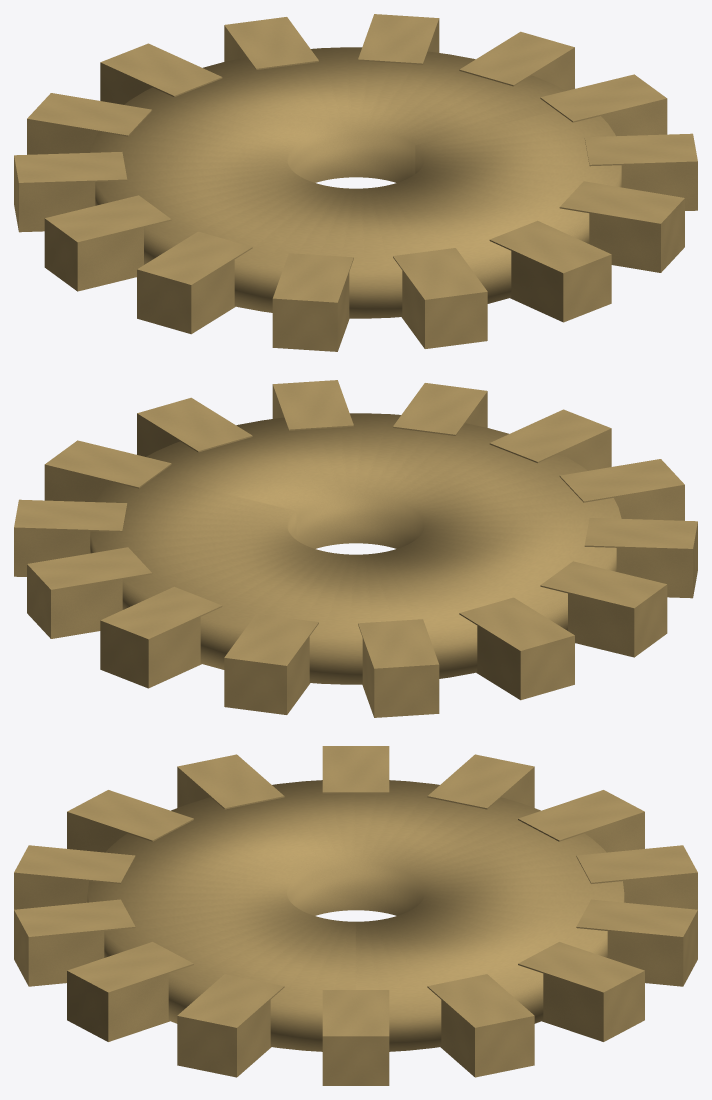
File: gear.glb
3 views of the same model, one above another, from view 1: azimuth 30°, elevation 25°; view 2: azimuth 150°, elevation 25°; view 3: azimuth 270°, elevation 25° (orthographic).
Parts seen in each view (by area): view 1: gear web, gear tooth.011, gear tooth.007, gear tooth.008, gear tooth.012, gear tooth.010, gear tooth.009, gear tooth.006, gear tooth.013, gear tooth.005, gear tooth, gear tooth.004 (+3 smaller); view 2: gear web, gear tooth.003, gear tooth.007, gear tooth.006, gear tooth.002, gear tooth.004, gear tooth.005, gear tooth.008, gear tooth.001, gear tooth.009, gear tooth, gear tooth.010 (+3 smaller); view 3: gear web, gear tooth.002, gear tooth.012, gear tooth.001, gear tooth.013, gear tooth.003, gear tooth.011, gear tooth, gear tooth.004, gear tooth.010, gear tooth.005, gear tooth.009 (+3 smaller).
Boxes of the visible parts, x1,y1,x2,y2 form: gear web: (90, 47, 621, 318); gear tooth.011: (489, 220, 611, 322); gear tooth.007: (44, 195, 171, 291); gear tooth.008: (137, 231, 252, 334); gear tooth.012: (559, 181, 684, 272); gear tooth.010: (393, 248, 487, 348); gear tooth.009: (272, 253, 353, 351); gear tooth.006: (14, 152, 127, 232); gear tooth.013: (584, 133, 697, 210); gear tooth.005: (27, 93, 152, 154); gear tooth: (540, 74, 667, 136); gear tooth.004: (100, 43, 222, 104); gear web: (90, 413, 621, 684); gear tooth.003: (100, 586, 222, 688); gear tooth.007: (540, 561, 667, 657); gear tooth.006: (459, 597, 574, 700); gear tooth.002: (27, 547, 152, 638); gear tooth.004: (224, 614, 318, 714); gear tooth.005: (358, 619, 439, 717); gear tooth.008: (584, 518, 697, 598); gear tooth.001: (14, 499, 127, 576); gear tooth.009: (559, 459, 684, 520); gear tooth: (44, 440, 171, 502); gear tooth.010: (489, 409, 611, 470); gear web: (87, 780, 624, 1051); gear tooth.002: (518, 942, 644, 1041); gear tooth.012: (67, 942, 193, 1041); gear tooth.001: (427, 974, 534, 1077); gear tooth.013: (177, 974, 284, 1077); gear tooth.003: (576, 899, 697, 986); gear tooth.011: (14, 899, 135, 986); gear tooth: (322, 990, 389, 1085); gear tooth.004: (576, 845, 697, 909); gear tooth.010: (14, 845, 135, 909); gear tooth.005: (518, 790, 644, 852); gear tooth.009: (67, 790, 193, 852).
Size of the model in its own units: 0.238 by 0.019 by 0.2372.
Materials: 1 (1 with a texture image).
